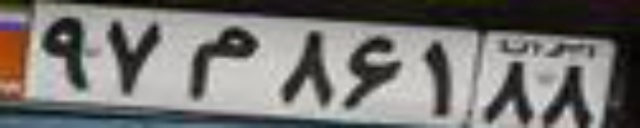1: (423, 37, 449, 115)
6: (340, 36, 402, 110)
7: (105, 19, 162, 97)
8: (279, 29, 332, 108), (481, 60, 533, 124), (545, 65, 596, 127)
9: (38, 14, 92, 89)
mim: (187, 26, 260, 101)
